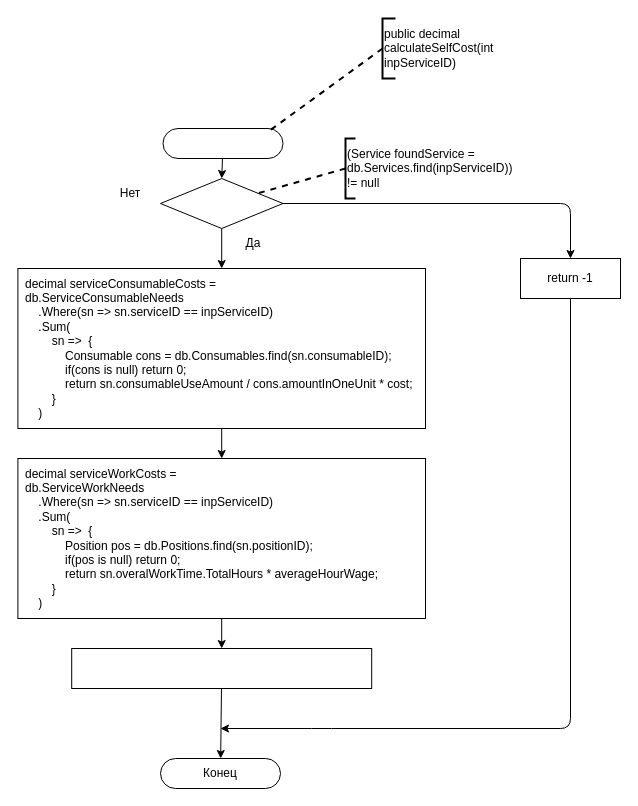
The diagram is 638 pixels wide and 806 high, and some of its shapes have lost their labels. Each missing label, with the box of its shape:
return serviceConsumableCosts + serviceWorkCosts: (71, 648, 372, 688)
Начало: (162, 128, 283, 158)
